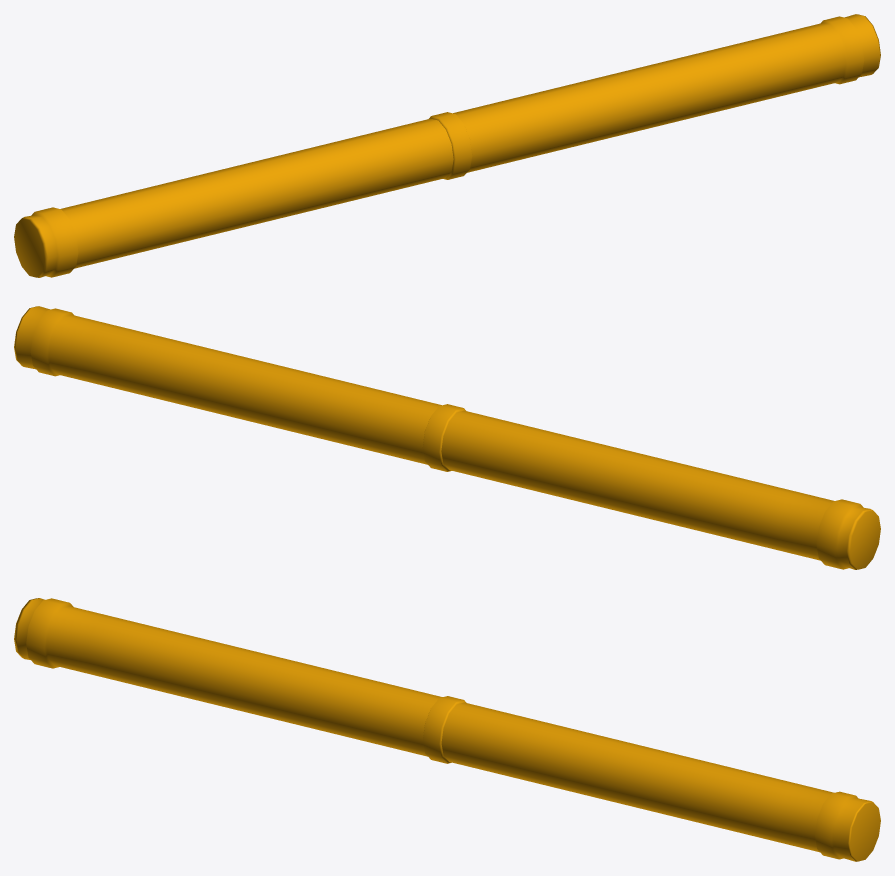
Rendered from Log_Long_01.fbx.
The picture shows the model from 3 angles, top to bottom: view 1: azimuth 30°, elevation 25°; view 2: azimuth 150°, elevation 25°; view 3: azimuth 330°, elevation 25°; orthographic projection.
Parts seen in each view (by area): view 1: Log_Long_01; view 2: Log_Long_01; view 3: Log_Long_01.
Part boxes in pixels (x1,y1,x2,y2): Log_Long_01: (14,14,880,277); Log_Long_01: (14,306,880,569); Log_Long_01: (14,598,880,861).
Size of the model in its own units: 253 by 17.84 by 17.84.
